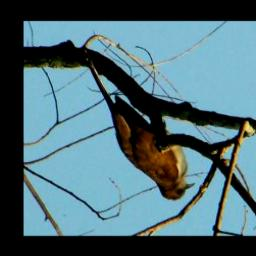Cuckoo: (112, 93, 195, 201)
